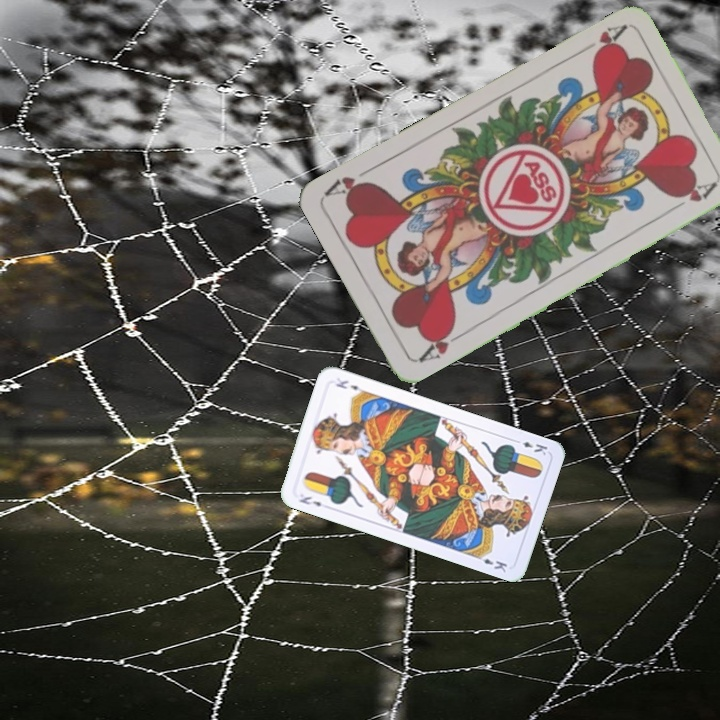EK: (510, 435, 550, 458), (295, 492, 324, 509)
HA: (413, 321, 467, 366), (574, 20, 629, 62)
